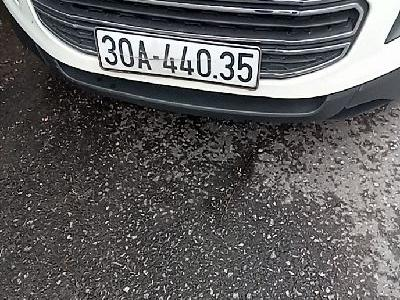lisence: (93, 26, 263, 92)
